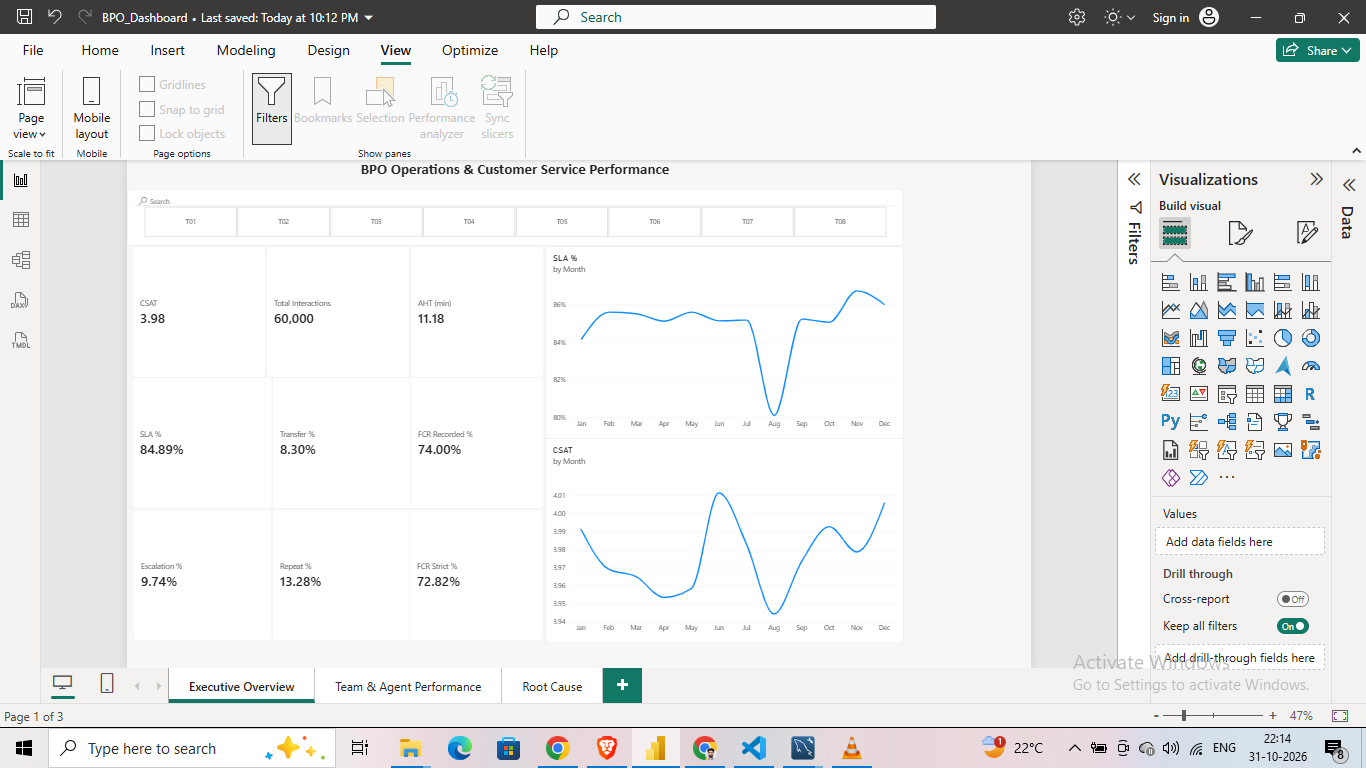

This screenshot's page, from the dashboard's own definition file:
{"tool":"powerbi","page":{"name":"Executive Overview","canvas":[1920,1080],"ordinal":0},"visuals":[{"type":"cardVisual","fields":{"Data":["Interactions.CSAT"]},"box":[10,182,285,280],"z":0},{"type":"cardVisual","fields":{"Data":["Interactions.Repeat %"]},"box":[308,742,306.7,280],"z":1000},{"type":"cardVisual","fields":{"Data":["Interactions.Escalation %"]},"box":[12,742,295,280],"z":2000},{"type":"cardVisual","fields":{"Data":["Interactions.SLA %"]},"box":[10,462,298.1,279.1],"z":3000},{"type":"cardVisual","fields":{"Data":["Interactions.Transfer %"]},"box":[308,462,307,280],"z":4000},{"type":"cardVisual","fields":{"Data":["Interactions.FCR Recorded %"]},"box":[600,742,285,280],"z":5000},{"type":"cardVisual","fields":{"Data":["Interactions.AHT (min)"]},"box":[602,182,285,280],"z":6000},{"type":"cardVisual","fields":{"Data":["Interactions.FCR Recorded %"]},"box":[602,462,285,280],"z":7000},{"type":"lineChart","fields":{"Category":["Dim_Date.Month"],"Y":["Interactions.SLA %"]},"box":[888,182,762,410],"z":8000},{"type":"cardVisual","fields":{"Data":["Interactions.Total Interactions"]},"box":[296,182,306.7,280],"z":9000},{"type":"slicer","fields":{"Values":["Interactions.Team_ID"]},"box":[0,62,1650,120],"z":10000},{"type":"lineChart","fields":{"Category":["Dim_Date.Month"],"Y":["Interactions.CSAT"]},"box":[888,592,762,436],"z":11000},{"type":"textbox","box":[0,0,1650,61.7],"z":11001}]}

Visuals, with their boxes on the page's 1920x1080 design canvas (x1, y1, x2, y2). These are canvas units, not pixel positions in the 1366x768 screenshot, which may show the page scaled, cropped or inside an application window:
cardVisual - Interactions.CSAT: (x1=10, y1=182, x2=295, y2=462)
cardVisual - Interactions.Repeat %: (x1=308, y1=742, x2=615, y2=1022)
cardVisual - Interactions.Escalation %: (x1=12, y1=742, x2=307, y2=1022)
cardVisual - Interactions.SLA %: (x1=10, y1=462, x2=308, y2=741)
cardVisual - Interactions.Transfer %: (x1=308, y1=462, x2=615, y2=742)
cardVisual - Interactions.FCR Recorded %: (x1=600, y1=742, x2=885, y2=1022)
cardVisual - Interactions.AHT (min): (x1=602, y1=182, x2=887, y2=462)
cardVisual - Interactions.FCR Recorded %: (x1=602, y1=462, x2=887, y2=742)
lineChart - Dim_Date.Month x Interactions.SLA %: (x1=888, y1=182, x2=1650, y2=592)
cardVisual - Interactions.Total Interactions: (x1=296, y1=182, x2=603, y2=462)
slicer - Interactions.Team_ID: (x1=0, y1=62, x2=1650, y2=182)
lineChart - Dim_Date.Month x Interactions.CSAT: (x1=888, y1=592, x2=1650, y2=1028)
textbox: (x1=0, y1=0, x2=1650, y2=62)
